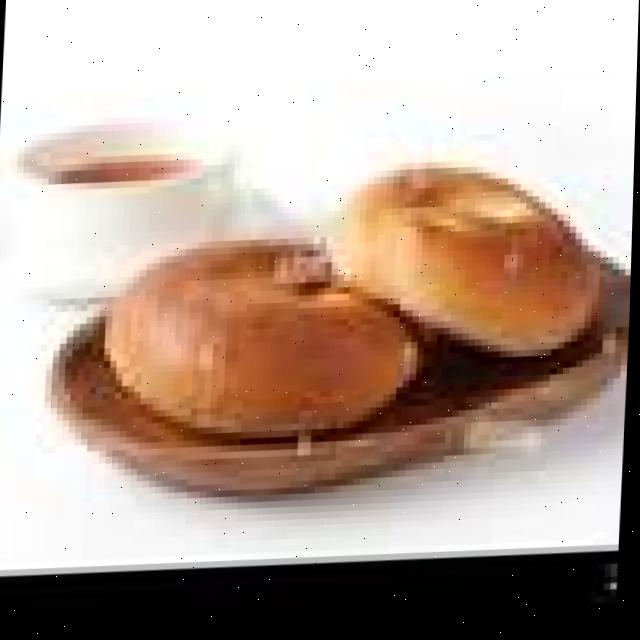Bagel: (107, 243, 418, 439), (350, 173, 606, 362)
